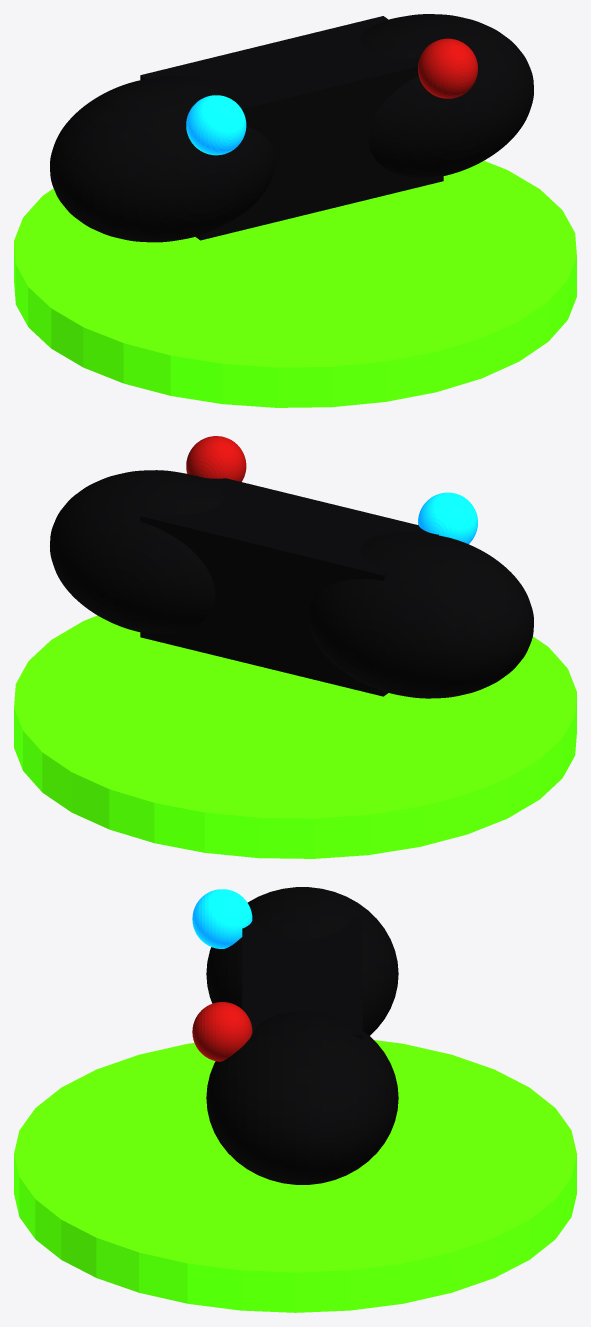
The model's file is tech_game_controller.dae.
3 views of the same model, one above another, from view 1: azimuth 30°, elevation 25°; view 2: azimuth 150°, elevation 25°; view 3: azimuth 270°, elevation 25° (orthographic).
Parts seen in each view (by area): view 1: 08_03_Popular_Tech_Game_Controller_ROOT_base, 08_03_Popular_Tech_Game_Controller_part_03, 08_03_Popular_Tech_Game_Controller_part_01, 08_03_Popular_Tech_Game_Controller_part_02, 08_03_Popular_Tech_Game_Controller_part_04, 08_03_Popular_Tech_Game_Controller_part_05; view 2: 08_03_Popular_Tech_Game_Controller_ROOT_base, 08_03_Popular_Tech_Game_Controller_part_01, 08_03_Popular_Tech_Game_Controller_part_03, 08_03_Popular_Tech_Game_Controller_part_02, 08_03_Popular_Tech_Game_Controller_part_04, 08_03_Popular_Tech_Game_Controller_part_05; view 3: 08_03_Popular_Tech_Game_Controller_ROOT_base, 08_03_Popular_Tech_Game_Controller_part_02, 08_03_Popular_Tech_Game_Controller_part_03, 08_03_Popular_Tech_Game_Controller_part_01, 08_03_Popular_Tech_Game_Controller_part_04, 08_03_Popular_Tech_Game_Controller_part_05.
Part boxes in pixels (bbox=[...]): 08_03_Popular_Tech_Game_Controller_ROOT_base: bbox=[14, 161, 576, 407]; 08_03_Popular_Tech_Game_Controller_part_03: bbox=[140, 16, 443, 240]; 08_03_Popular_Tech_Game_Controller_part_01: bbox=[50, 76, 275, 242]; 08_03_Popular_Tech_Game_Controller_part_02: bbox=[360, 14, 533, 177]; 08_03_Popular_Tech_Game_Controller_part_04: bbox=[186, 95, 246, 155]; 08_03_Popular_Tech_Game_Controller_part_05: bbox=[418, 38, 477, 98]; 08_03_Popular_Tech_Game_Controller_ROOT_base: bbox=[14, 615, 576, 858]; 08_03_Popular_Tech_Game_Controller_part_01: bbox=[308, 532, 533, 698]; 08_03_Popular_Tech_Game_Controller_part_03: bbox=[140, 475, 438, 696]; 08_03_Popular_Tech_Game_Controller_part_02: bbox=[50, 470, 223, 633]; 08_03_Popular_Tech_Game_Controller_part_04: bbox=[418, 492, 477, 544]; 08_03_Popular_Tech_Game_Controller_part_05: bbox=[186, 436, 246, 481]; 08_03_Popular_Tech_Game_Controller_ROOT_base: bbox=[14, 1040, 576, 1312]; 08_03_Popular_Tech_Game_Controller_part_02: bbox=[206, 1011, 398, 1184]; 08_03_Popular_Tech_Game_Controller_part_03: bbox=[242, 916, 362, 1039]; 08_03_Popular_Tech_Game_Controller_part_01: bbox=[206, 887, 398, 1035]; 08_03_Popular_Tech_Game_Controller_part_04: bbox=[192, 889, 252, 948]; 08_03_Popular_Tech_Game_Controller_part_05: bbox=[192, 1002, 252, 1061].
Size of the model in its own units: 0.76 by 0.3657 by 0.76.
